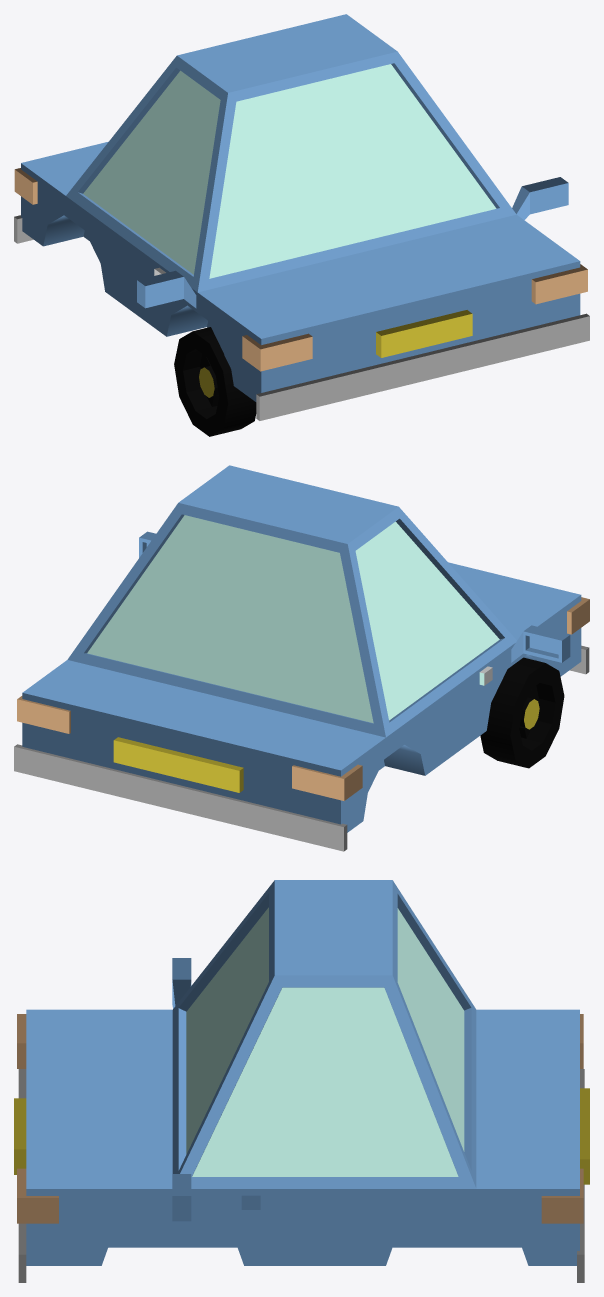
The model's file is Car.fbx.
The picture shows the model from 3 angles, top to bottom: view 1: azimuth 30°, elevation 25°; view 2: azimuth 150°, elevation 25°; view 3: azimuth 270°, elevation 25°; orthographic projection. The views are drawn at different scales.
Parts seen in each view (by area): view 1: Box029, Cylinder046; view 2: Box029, Cylinder046; view 3: Box029.
Part boxes in pixels (x1,y1,x2,y2): Box029: [14, 14, 589, 420]; Cylinder046: [174, 327, 256, 436]; Box029: [14, 465, 589, 851]; Cylinder046: [480, 657, 564, 768]; Box029: [14, 880, 589, 1282].
Size of the model in its own units: 91.33 by 93.44 by 57.04.
13 materials, 9 textured.
